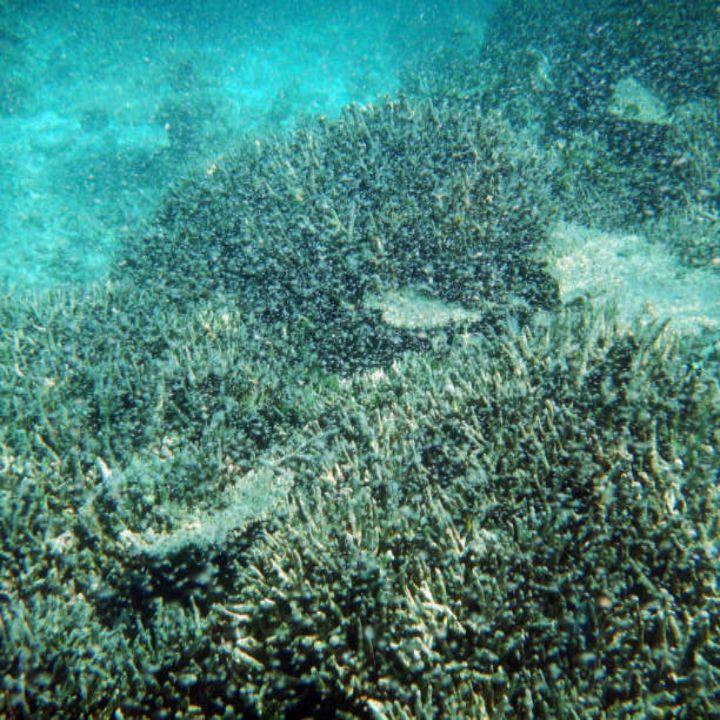Dead Coral: (69, 167, 652, 715)
